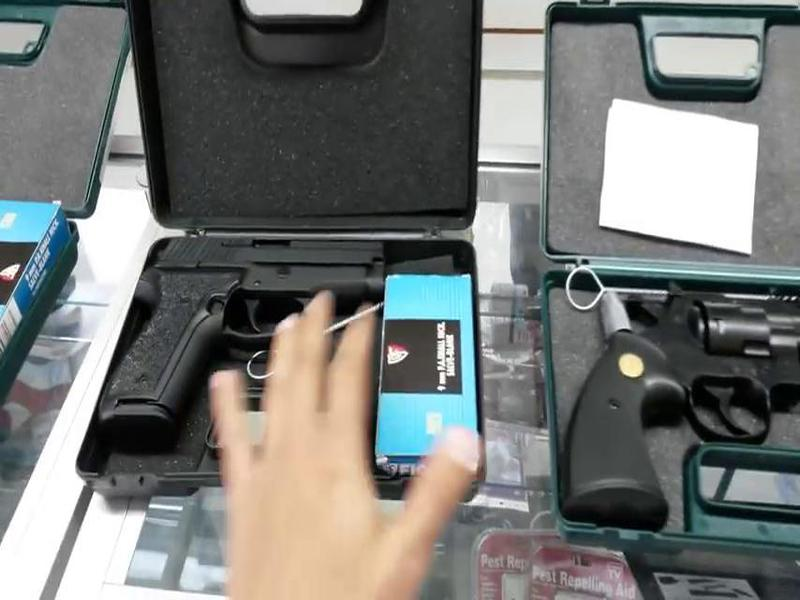Pistola: (88, 219, 405, 448)
